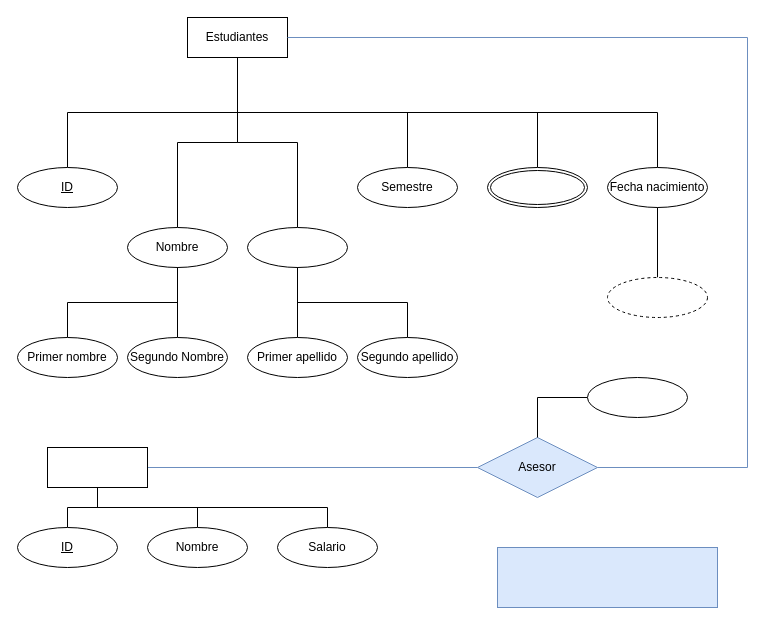
The diagram is 766 pixels wide and 625 high, and some of its shapes have lost their labels. Each missing label, with the box of its shape:
Apelllido: (246, 226, 348, 268)
Edad: (606, 276, 708, 318)
Fecha: (586, 376, 688, 418)
Profesor: (46, 446, 148, 488)
Relación: ASESOR Cardinalidad: Muchos a Muchos Con un atributo: Fecha: (496, 546, 718, 608)
Teléfono: (486, 166, 588, 208)
